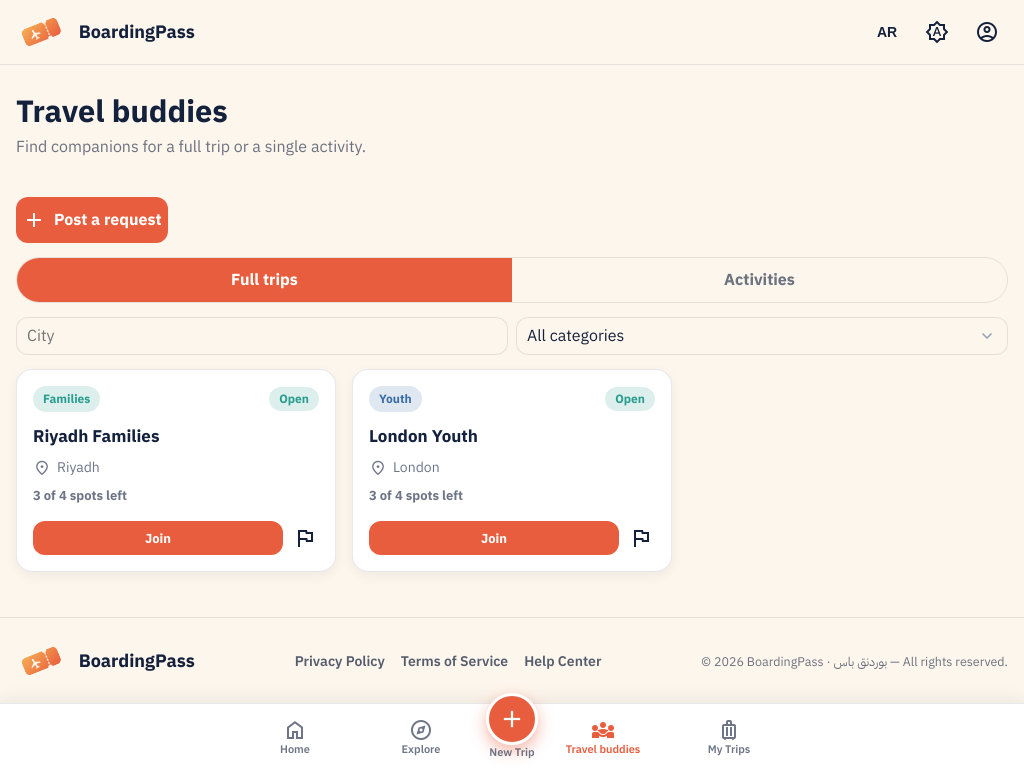
it: US-011 Travel Buddies UI › filters the grid by category (AC1)
Expected: the heading "Riyadh Families" is shown, [33, 424, 160, 449]
Select "Families" in the dropdown named "Category" at {"x": 762, "y": 336}, box [516, 317, 1008, 355]
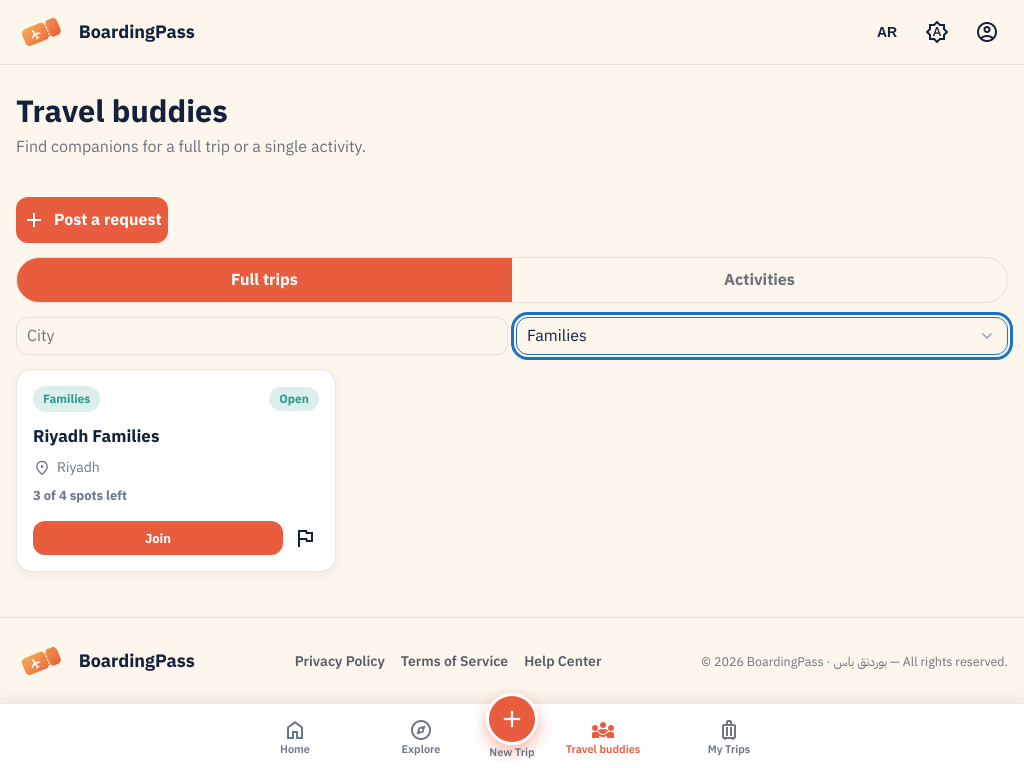
Expected: the heading "Riyadh Families" is shown, [33, 424, 160, 449]
Result: the heading "London Youth" is gone
